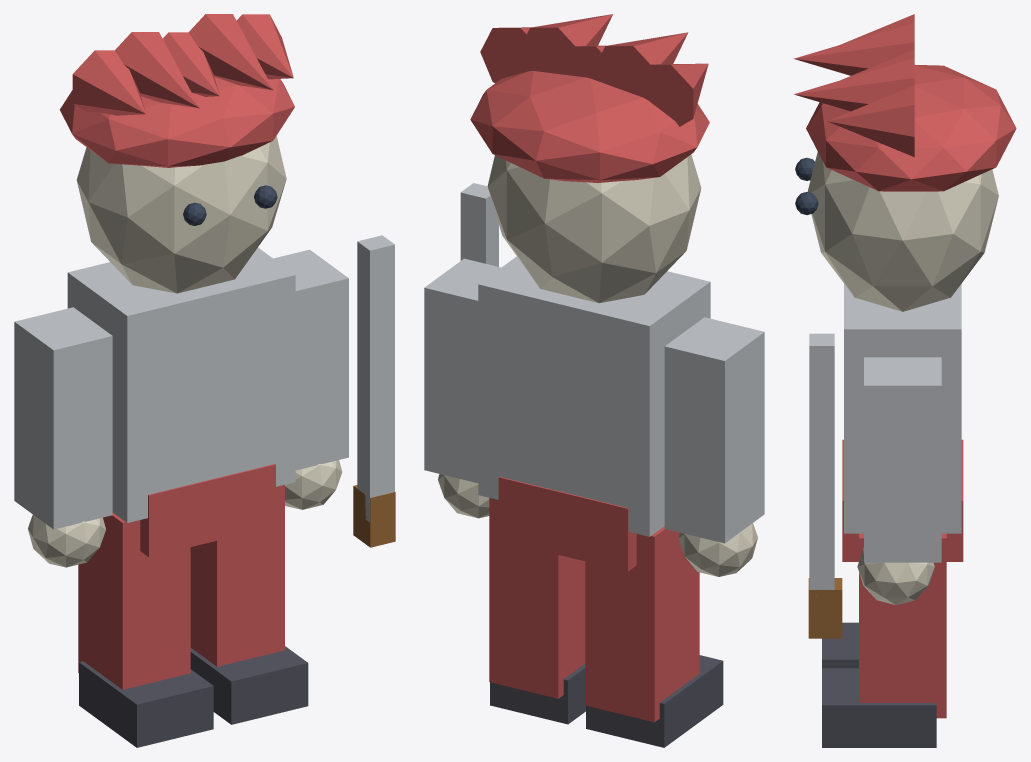
The model's file is erza.glb.
3 renders of one model, left to right at view 1: azimuth 30°, elevation 25°; view 2: azimuth 150°, elevation 25°; view 3: azimuth 270°, elevation 25°, orthographic. The views are drawn at different scales.
Parts seen in each view (by area): view 1: part_000, part_010, part_002, part_004, part_013, part_008, part_006, part_020, part_001, part_005, part_009, part_014 (+7 smaller); view 2: part_000, part_010, part_002, part_013, part_004, part_008, part_006, part_001, part_005, part_017, part_015, part_014 (+6 smaller); view 3: part_010, part_006, part_013, part_000, part_008, part_020, part_009, part_018, part_015, part_017, part_007, part_019 (+3 smaller).
Boxes of the visible parts, left/top/right/bottom form: part_000: left=67, top=247, right=295, bottom=522; part_010: left=76, top=136, right=286, bottom=293; part_002: left=14, top=307, right=112, bottom=529; part_004: left=78, top=513, right=190, bottom=689; part_013: left=59, top=76, right=294, bottom=167; part_008: left=190, top=484, right=284, bottom=666; part_006: left=273, top=249, right=348, bottom=470; part_020: left=357, top=235, right=394, bottom=522; part_001: left=140, top=464, right=275, bottom=557; part_005: left=79, top=661, right=213, bottom=747; part_009: left=190, top=646, right=308, bottom=724; part_014: left=72, top=50, right=145, bottom=115; part_000: left=478, top=256, right=710, bottom=536; part_010: left=487, top=154, right=701, bottom=303; part_002: left=664, top=317, right=764, bottom=543; part_013: left=470, top=71, right=709, bottom=183; part_004: left=585, top=526, right=699, bottom=722; part_008: left=489, top=498, right=585, bottom=698; part_006: left=424, top=258, right=500, bottom=483; part_001: left=498, top=476, right=636, bottom=571; part_005: left=586, top=655, right=723, bottom=747; part_017: left=518, top=14, right=612, bottom=76; part_015: left=593, top=32, right=688, bottom=102; part_014: left=630, top=63, right=708, bottom=126; part_010: left=807, top=151, right=998, bottom=311; part_006: left=864, top=357, right=941, bottom=562; part_013: left=806, top=65, right=1016, bottom=191; part_000: left=844, top=284, right=961, bottom=533; part_008: left=859, top=533, right=946, bottom=718; part_020: left=809, top=333, right=834, bottom=595; part_009: left=822, top=668, right=936, bottom=747; part_018: left=827, top=85, right=914, bottom=156; part_015: left=793, top=22, right=914, bottom=75; part_017: left=794, top=58, right=914, bottom=111; part_007: left=857, top=548, right=934, bottom=605; part_019: left=808, top=578, right=842, bottom=638.
Size of the model in its own units: 1.08 by 2.17 by 0.6628.
